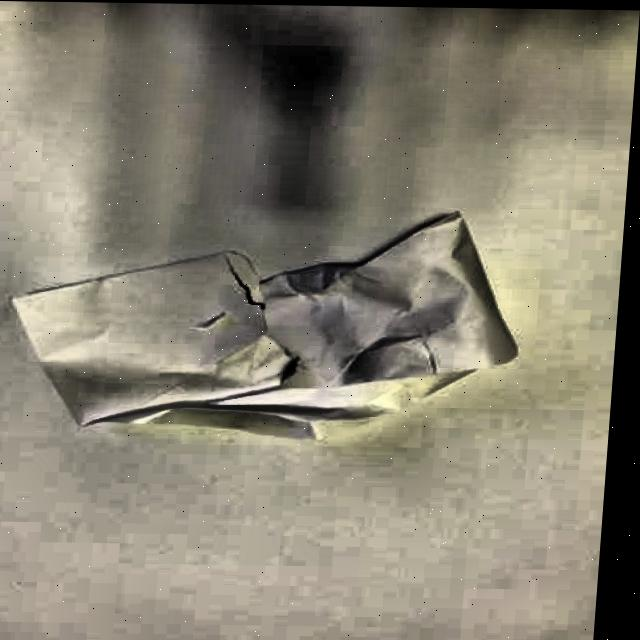paper: (0, 202, 528, 440)
